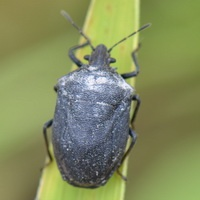insect: (43, 11, 149, 187)
